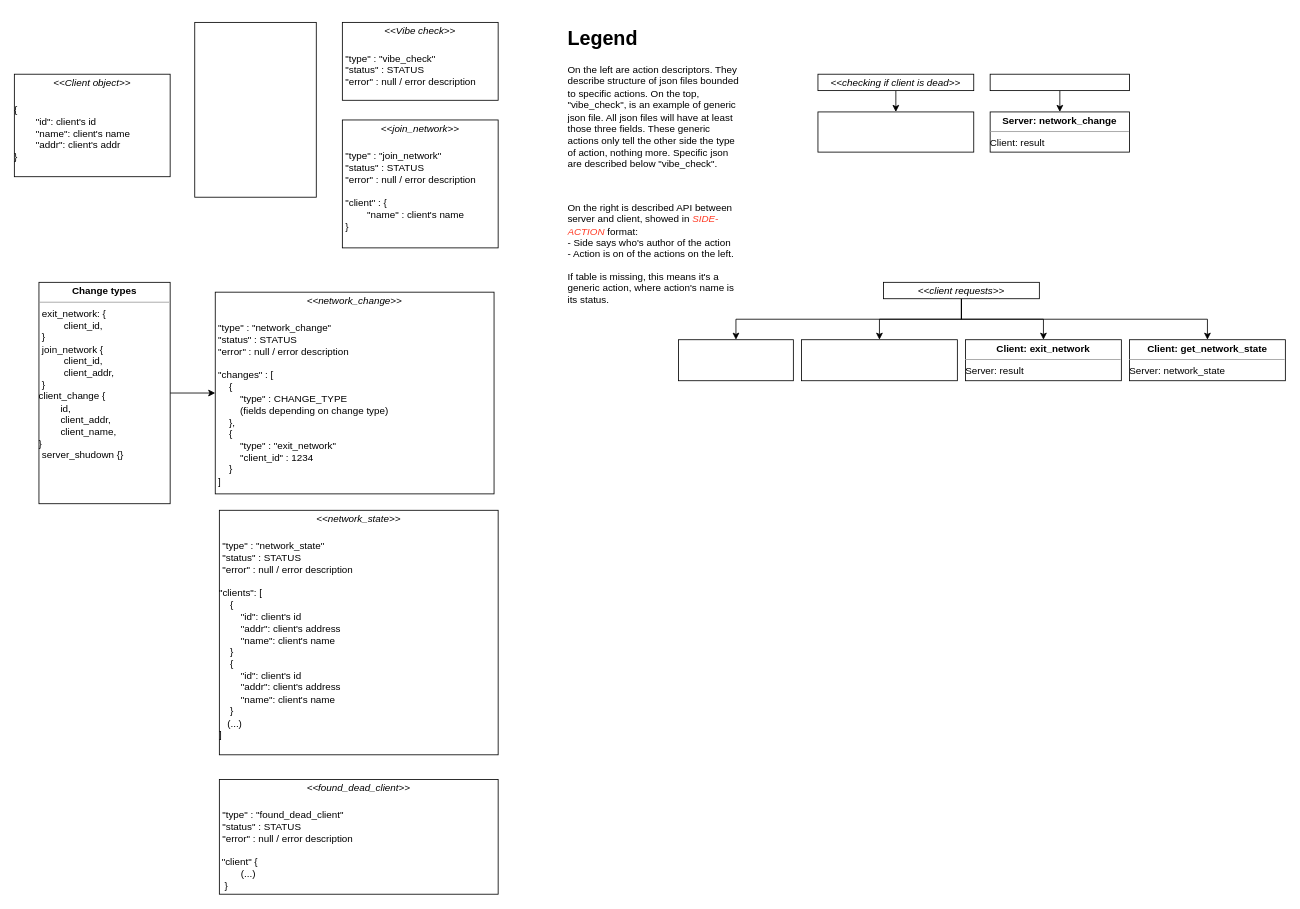
The diagram is 1300 pixels wide and 909 high, and some of its shapes have lost their labels. Here are the shapes that lost their labels. From the top down, the centre of each, then its label:
(x=1059, y=82): <<client updates>>
(x=255, y=109): STATUS ok error server_error wrong_client_input unknown_client
(x=895, y=131): Server: vibe_check Client: still_alive
(x=735, y=360): Client: join_network Server: result
(x=879, y=360): Client: found_dead_client Server: result
